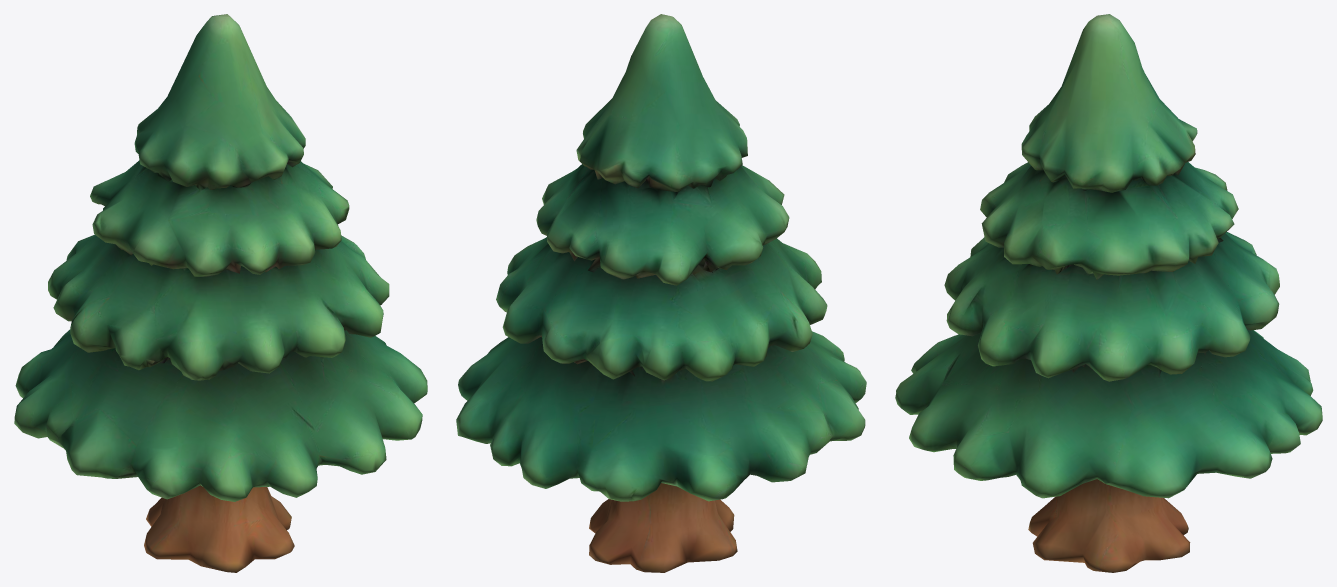
File: tree-conifer.glb
3 views of the same model, side by side, from view 1: azimuth 30°, elevation 25°; view 2: azimuth 150°, elevation 25°; view 3: azimuth 270°, elevation 25° (orthographic).
Parts seen in each view (by area): view 1: Mesh_0; view 2: Mesh_0; view 3: Mesh_0.
Boxes of the visible parts, x1=… form: Mesh_0: x1=14, y1=14, x2=427, y2=572; Mesh_0: x1=456, y1=14, x2=866, y2=572; Mesh_0: x1=895, y1=14, x2=1322, y2=572.
Bounding box in the file's own units: 1.41 × 2 × 1.48.
Materials: 1 (1 with a texture image).
